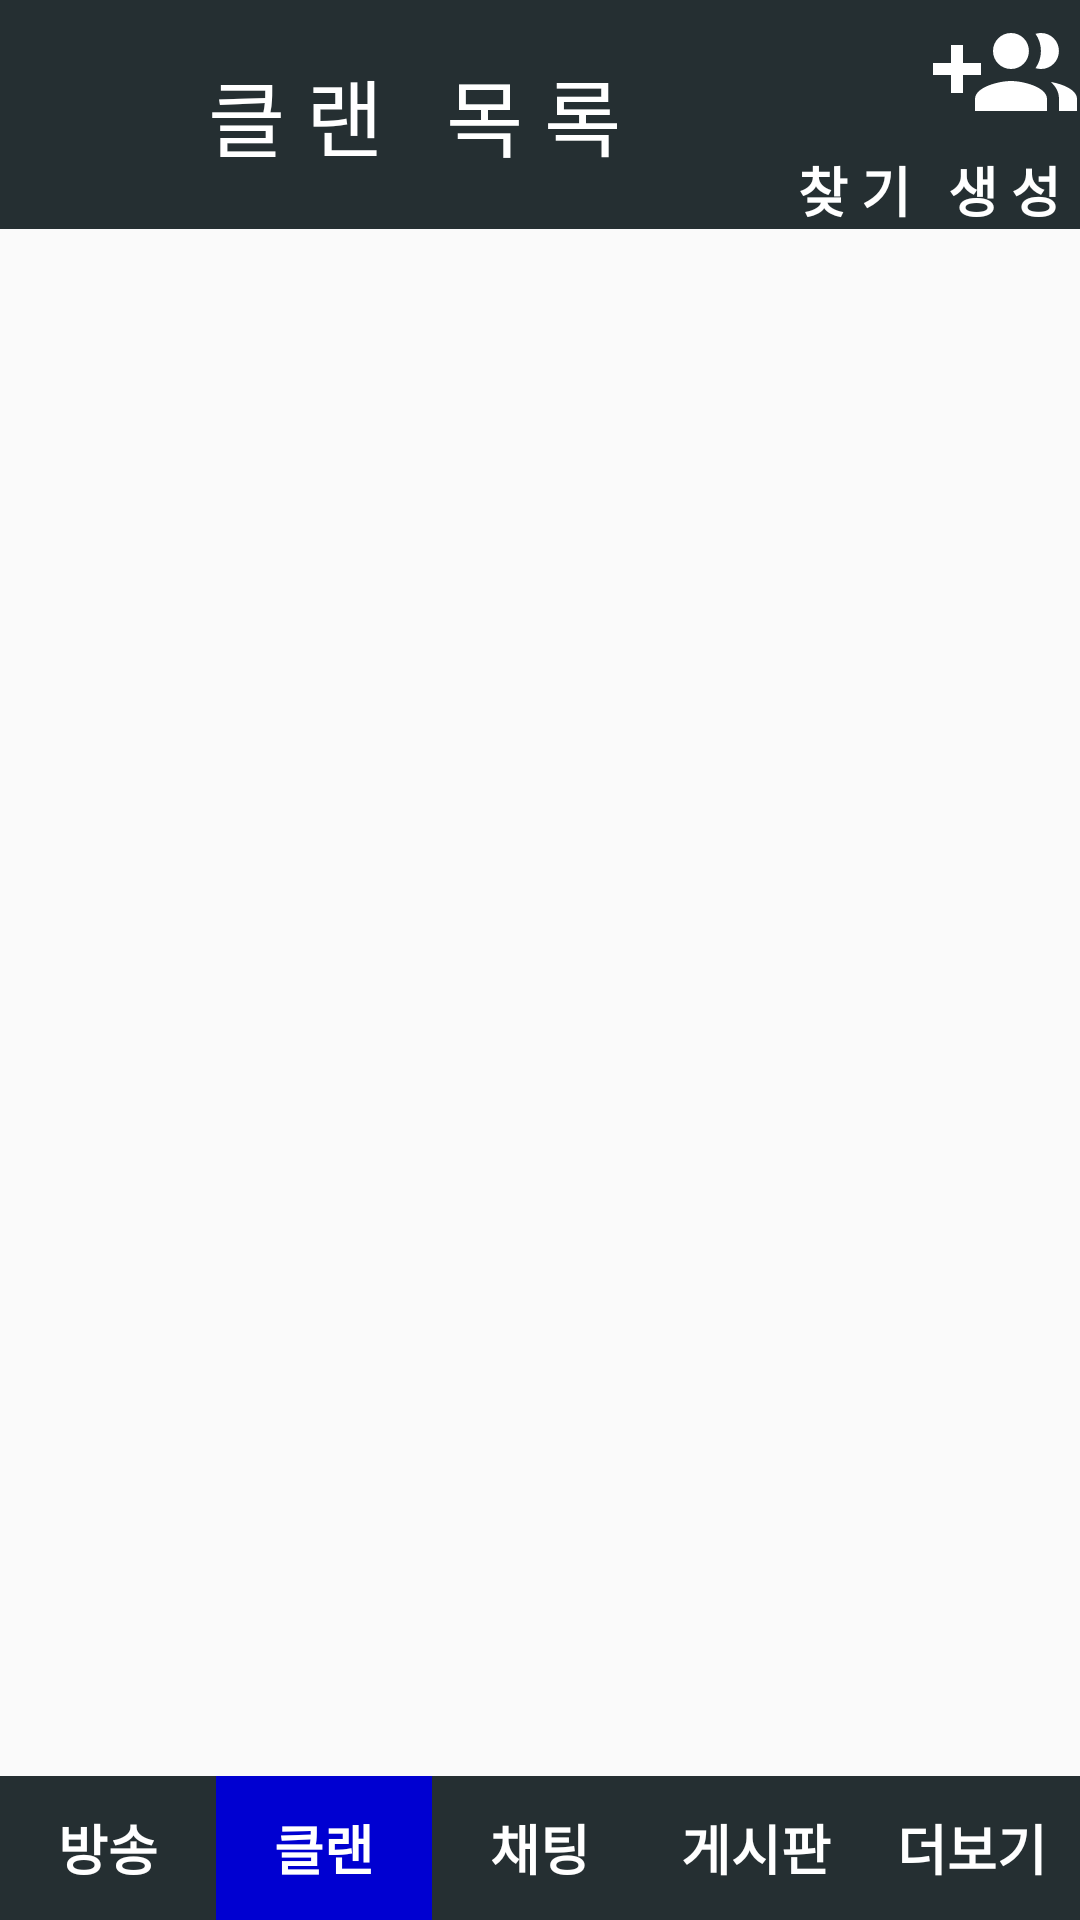

Locate icon controls on the screen. Image size 1080×1920, boxes as {"x1": x1, "y1": y1, "x2": x2, "y2": y2}.
group add: {"x1": 933, "y1": 33, "x2": 1077, "y2": 111}
